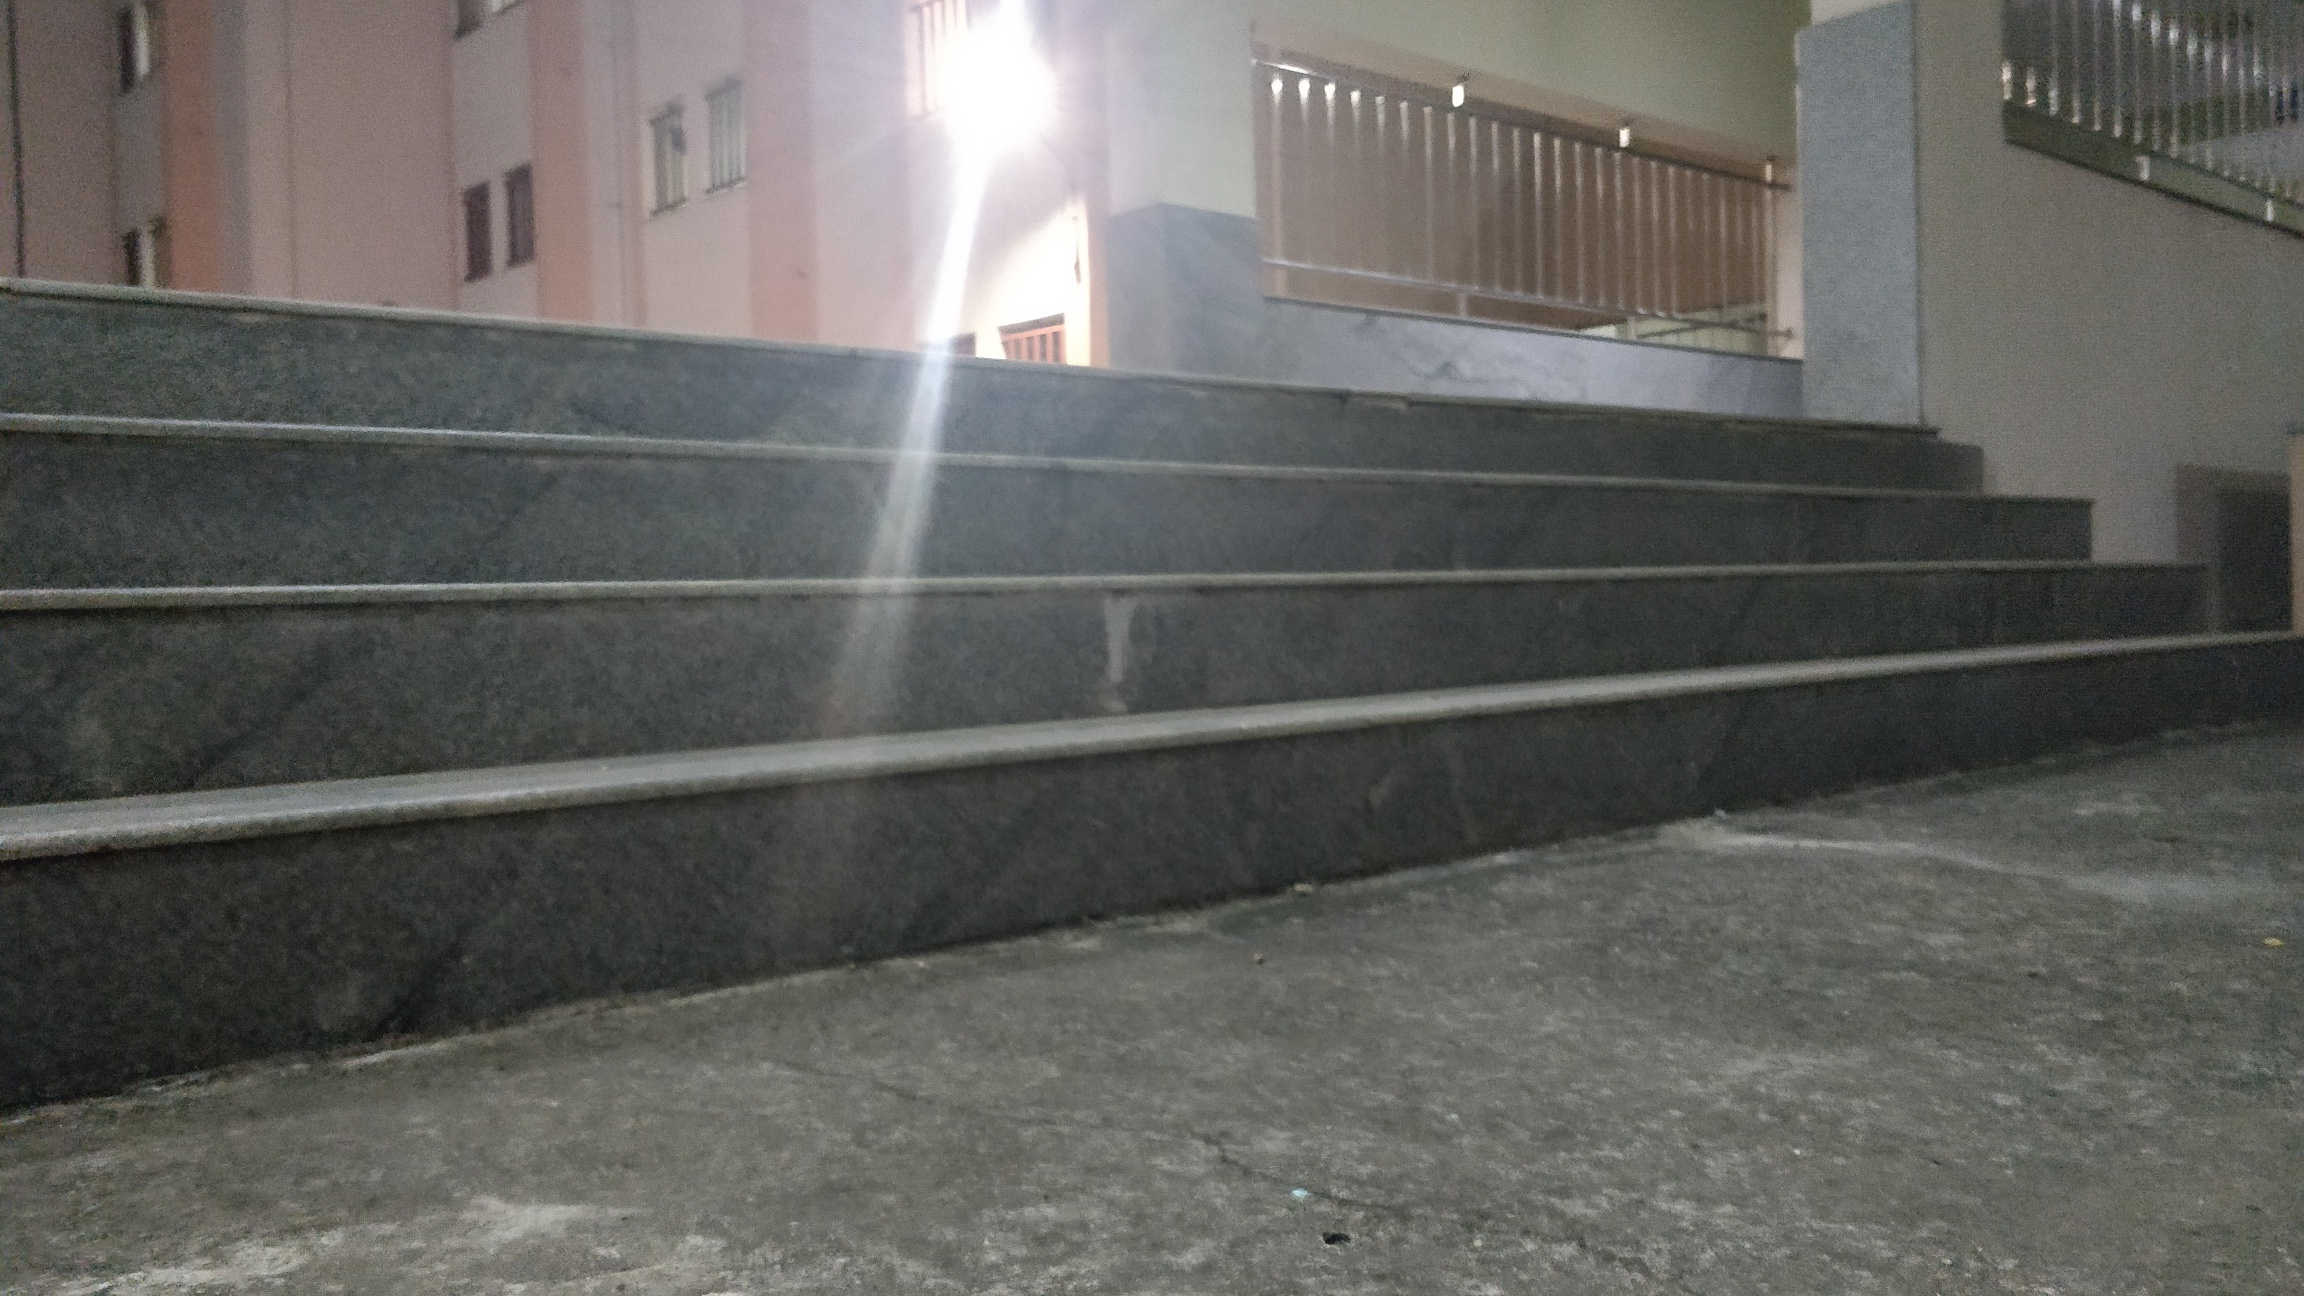stairs_up: (22, 263, 2014, 832)
